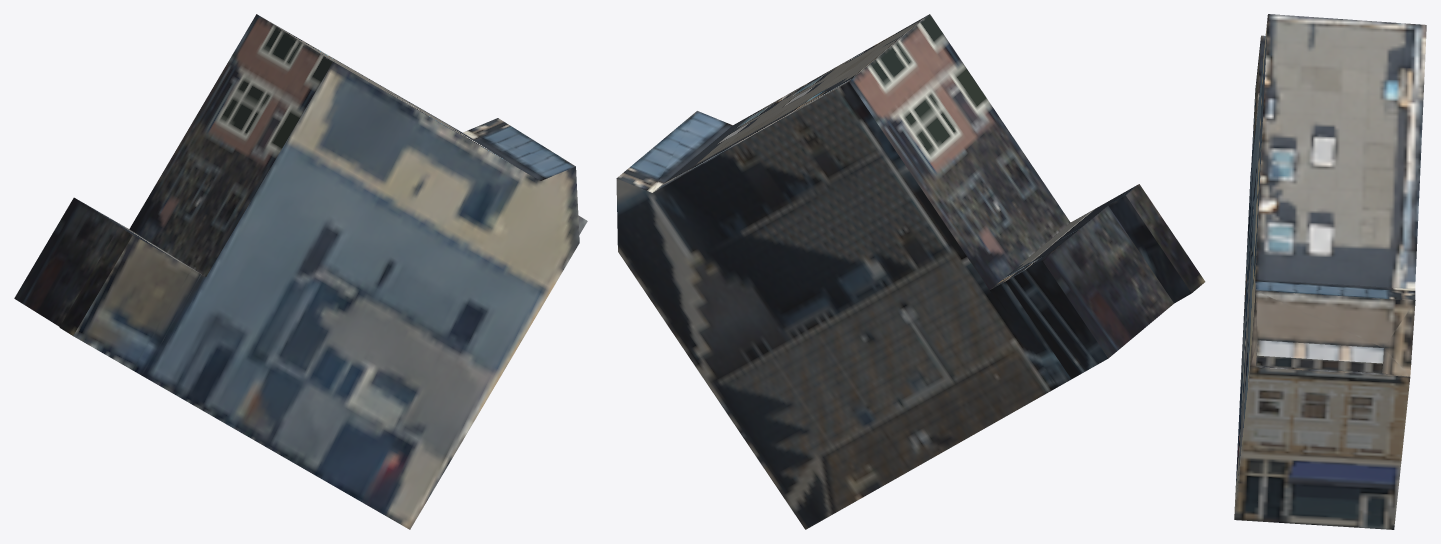
3 renders of one model, left to right at view 1: azimuth 30°, elevation 25°; view 2: azimuth 150°, elevation 25°; view 3: azimuth 270°, elevation 25°, orthographic.
Parts seen in each view (by area): view 1: BAG_0599100000671684 (×5); view 2: BAG_0599100000671684 (×5); view 3: BAG_0599100000671684 (×5).
Part boxes in pixels (x1,y1,x2,y2): BAG_0599100000671684 (×5): (14, 14, 587, 529); BAG_0599100000671684 (×5): (616, 14, 1205, 529); BAG_0599100000671684 (×5): (1234, 14, 1426, 529).
Size of the model in its own units: 24.19 by 21.49 by 7.72.
Materials: 6 (5 with a texture image).
